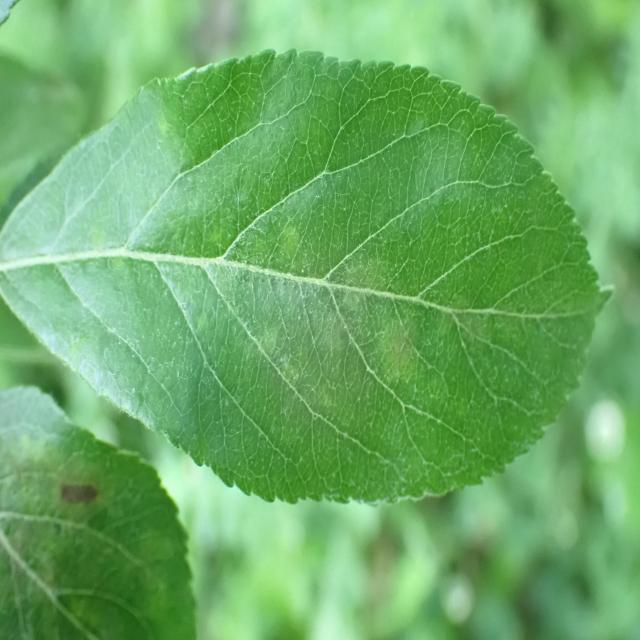scab: (59, 162, 514, 455), (0, 442, 133, 640)
